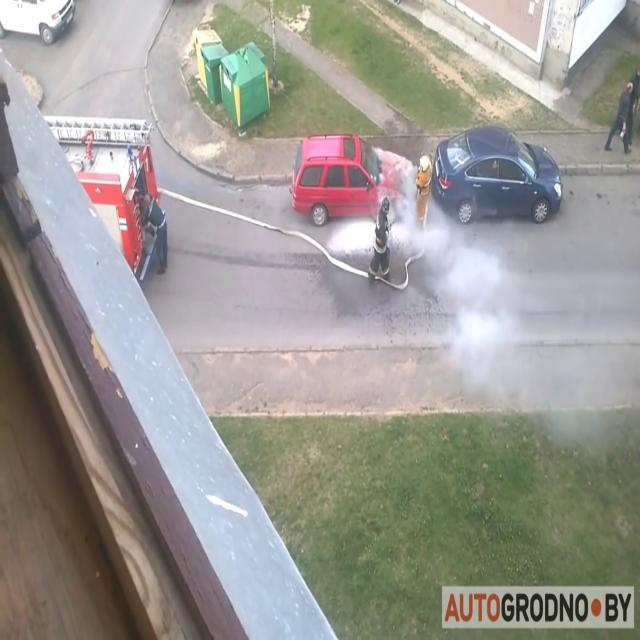Smoke: (394, 159, 640, 440)
